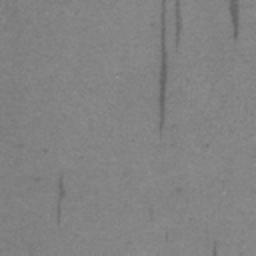Red iron sheet: (158, 0, 168, 136), (56, 171, 66, 225), (229, 0, 239, 41), (175, 0, 182, 47), (212, 241, 218, 256)
